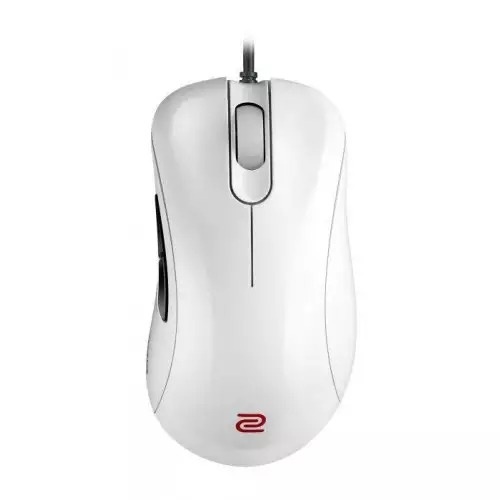mouse: (133, 68, 363, 473)
